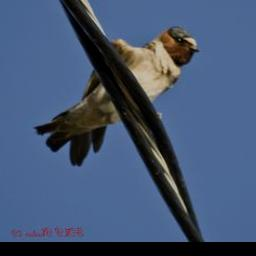Swallow: (33, 24, 202, 168)
